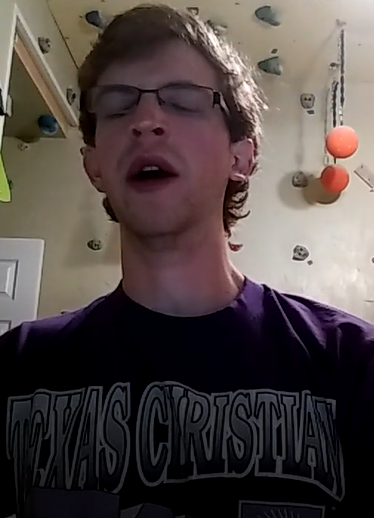Sleeping: (85, 80, 212, 127)
